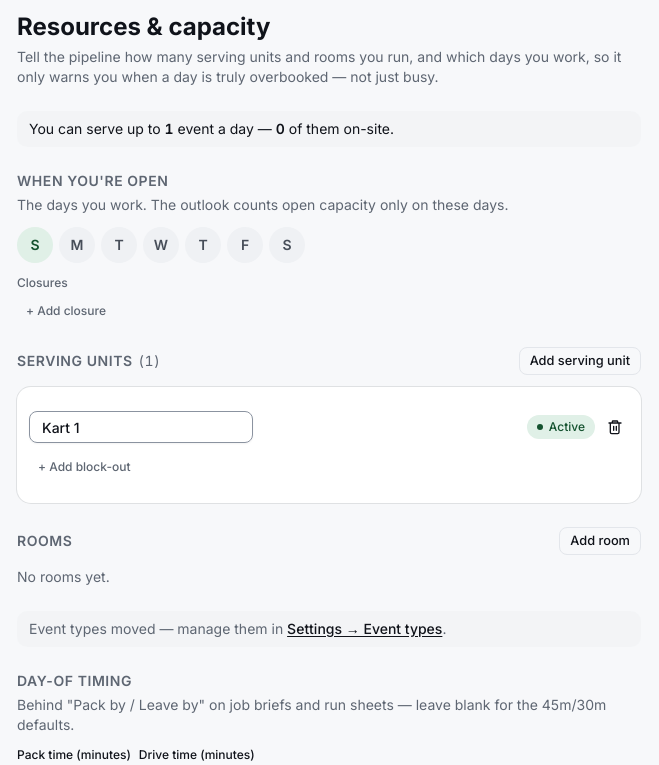
Test: CapacityUnitsClient › When you're open — serviceable days › warns when every day is marked closed
Check: the text "marked every day closed" is not shown
Click the button named "Sunday".
click(35, 245)  # box [17,227,53,263]
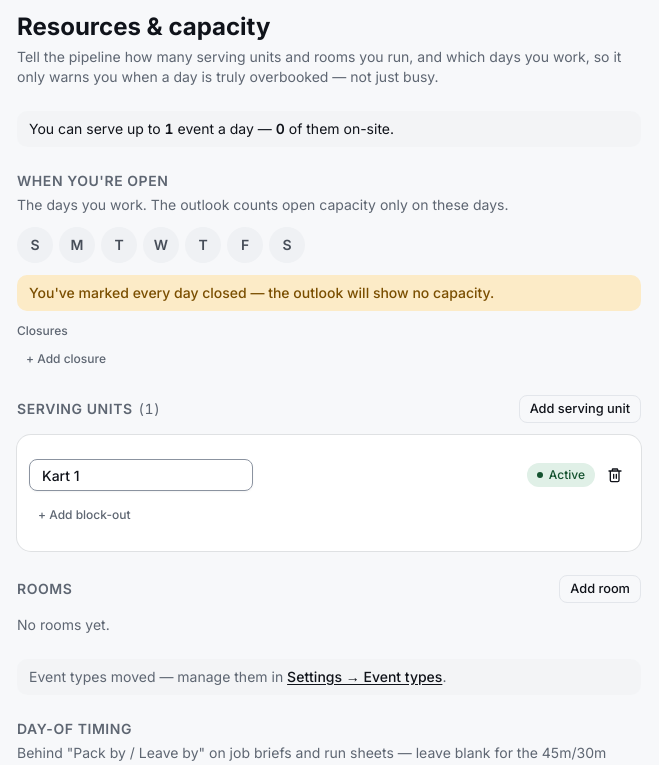
Check: the text "You've marked every day closed — the outlook will show no capacity." is shown, box [17,275,641,311]
